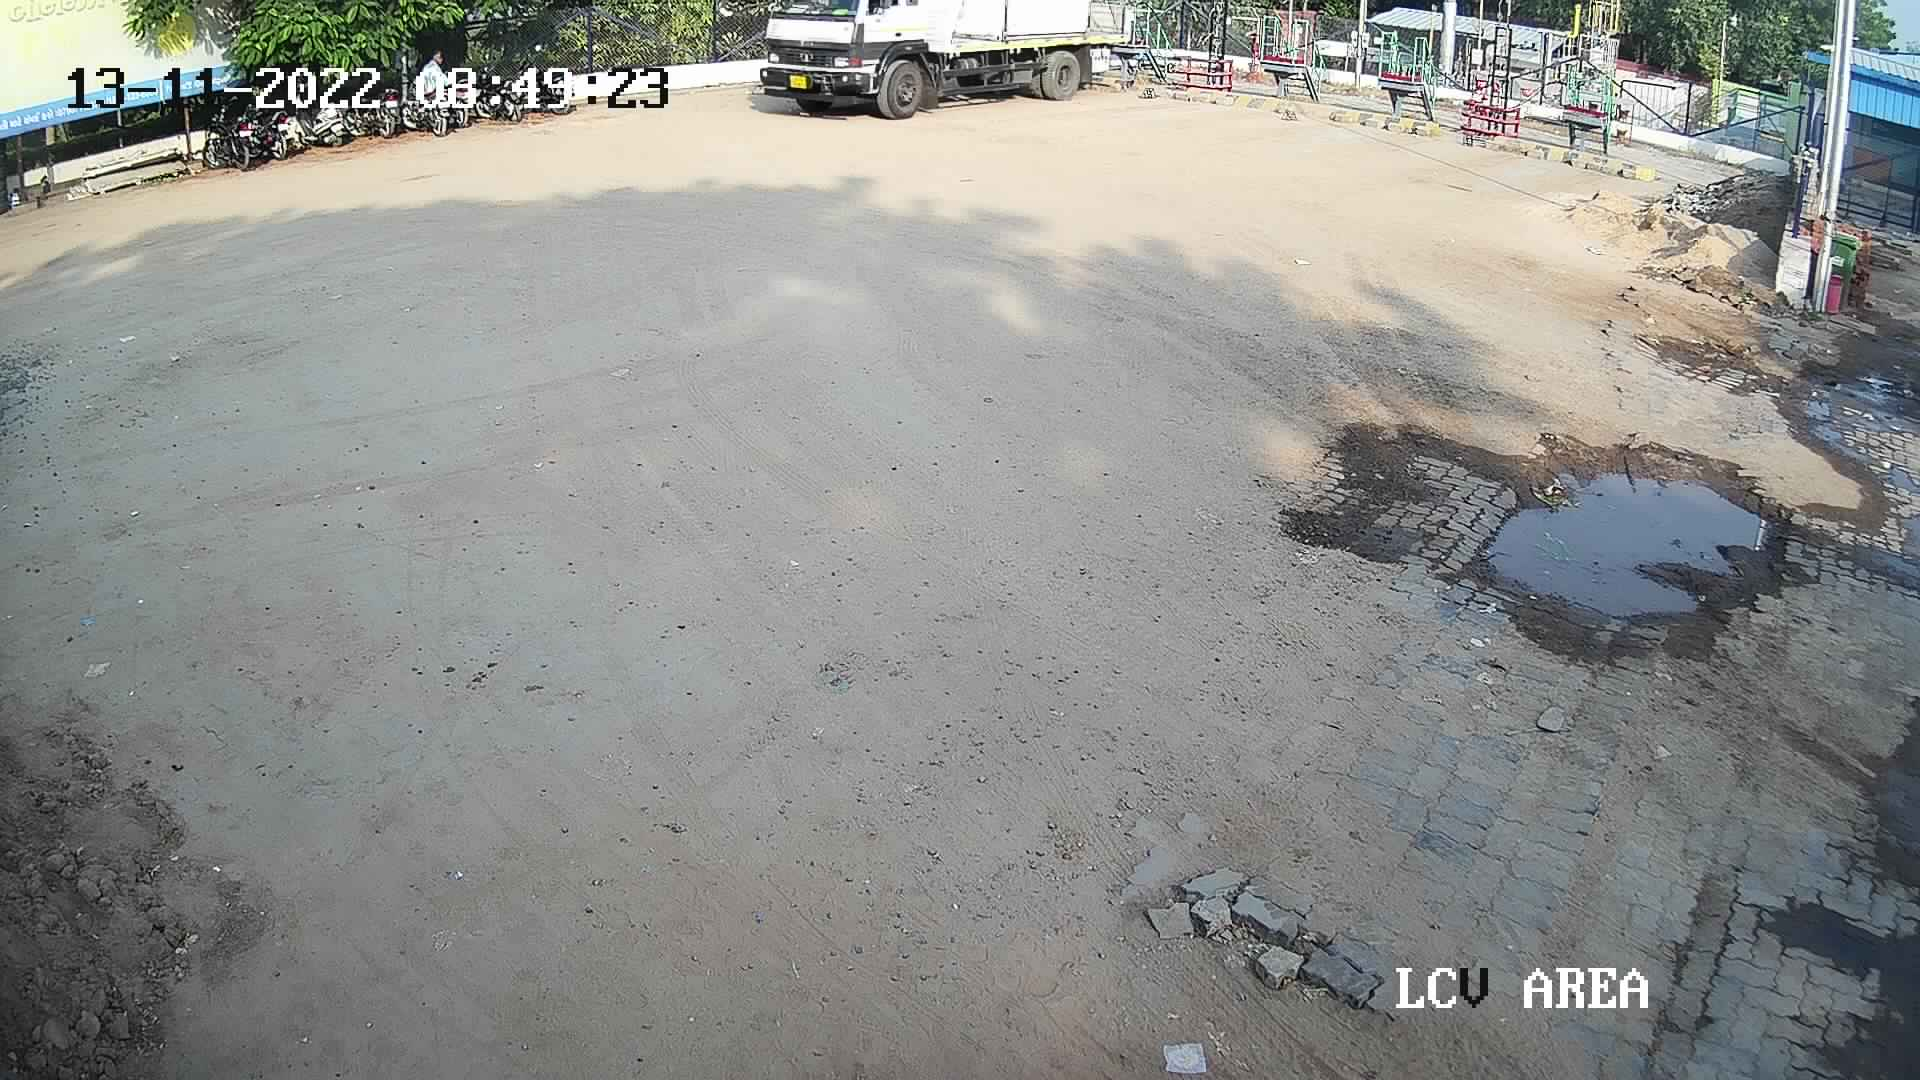HMV: (744, 0, 1158, 117)
